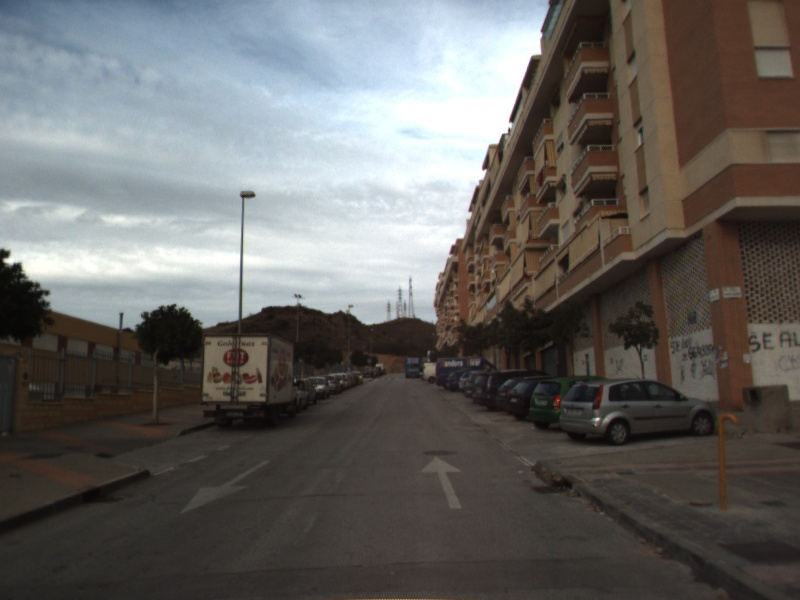STRAIGHT: (418, 454, 464, 510)
